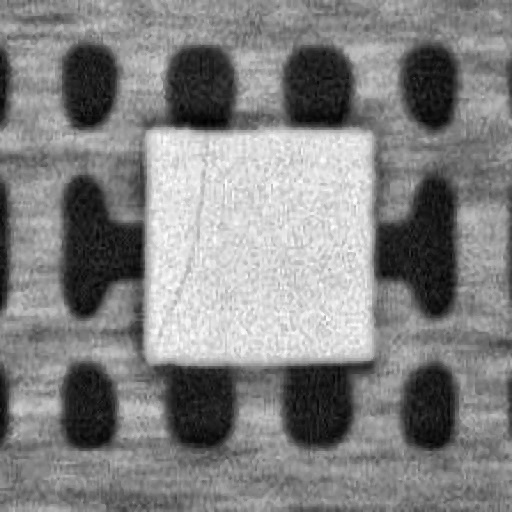DIE_CRACK: (152, 130, 208, 353)
